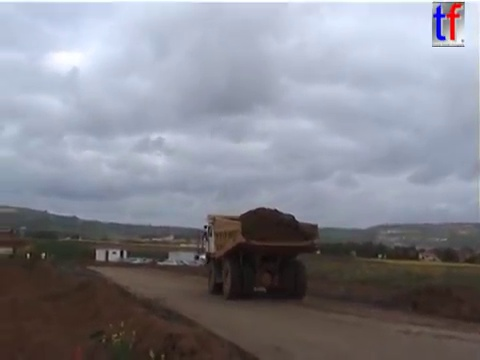truck: (196, 211, 325, 302)
